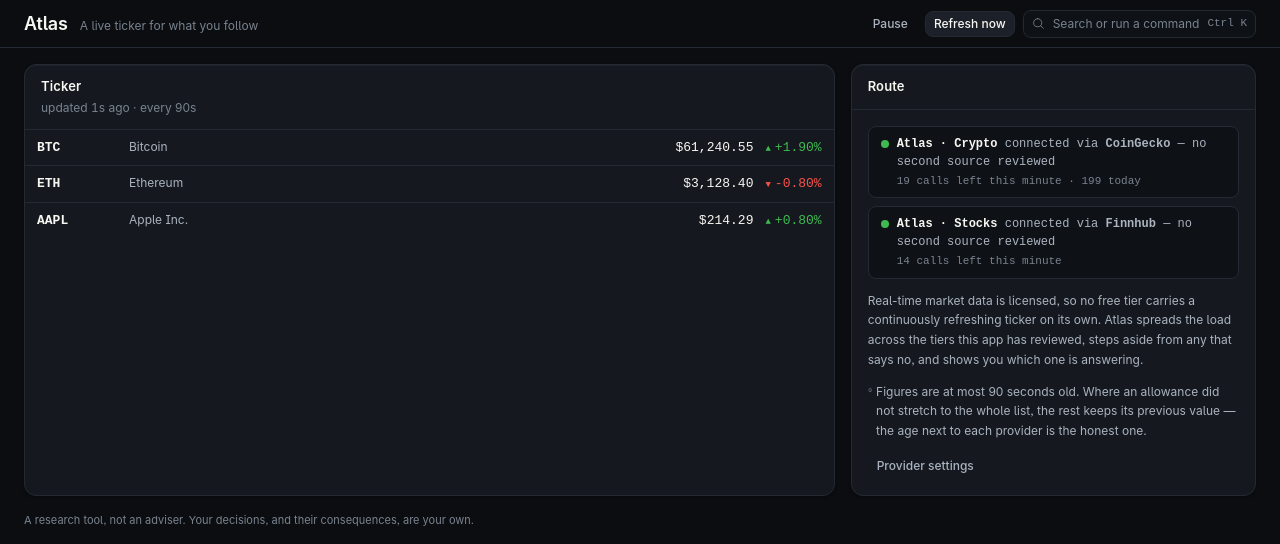
Test: the ticker › can be paused, because a ticker nobody is watching is a request nobody asked for
expect the element "Ticker" is shown: met, box [24,64,835,496]
Click the button "Pause" at (890, 24), box [864,10,917,36]
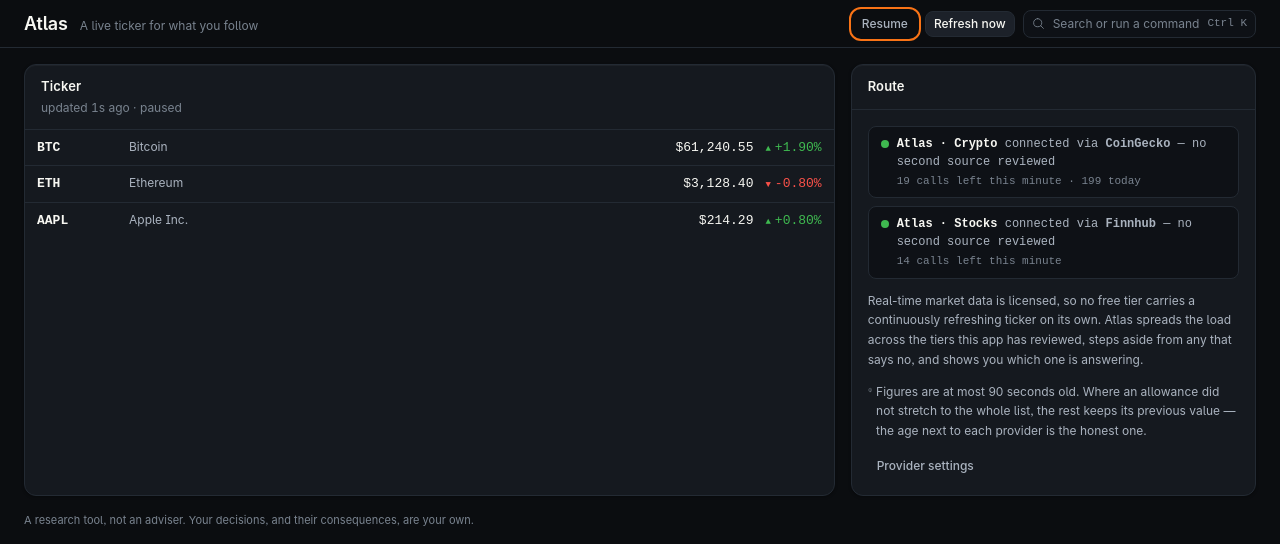
expect the button "Resume" is shown: met, box [853,10,917,36]
expect the text "updated 1s ago · paused" is shown: met, box [41,98,182,116]
